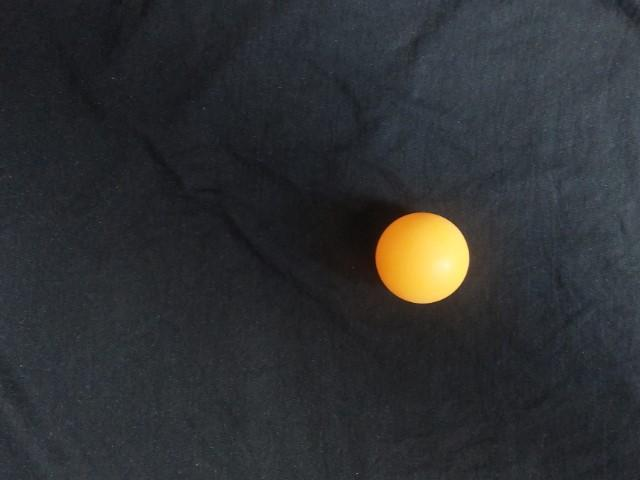oball: (160, 168, 272, 281)
